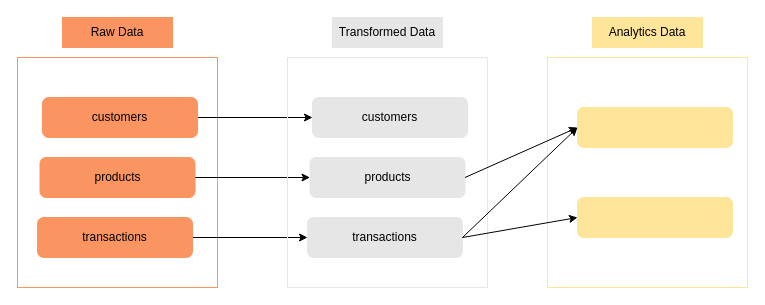
This 765x305 diagram has some shape labels left out. The centre of each missing label's shape, as x and y in pixels:
"customer_metrics" belongs at pixel 654 217.
"product_metrics" belongs at pixel 654 127.
